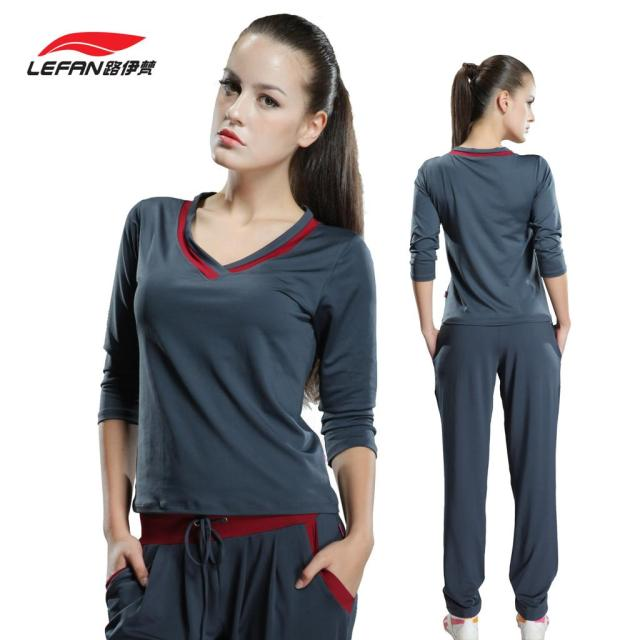Face: (209, 33, 341, 173), (504, 78, 542, 152)
